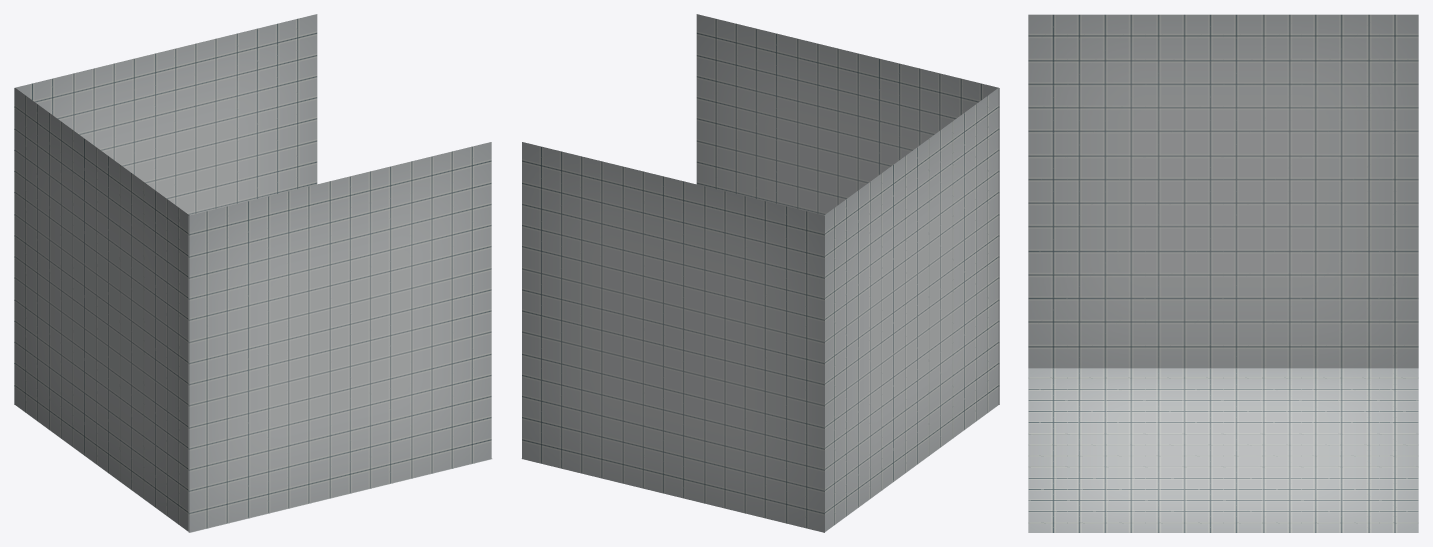
File: tile.fbx
The picture shows the model from 3 angles, left to right: view 1: azimuth 30°, elevation 25°; view 2: azimuth 150°, elevation 25°; view 3: azimuth 270°, elevation 25°; orthographic projection. The views are drawn at different scales.
Parts seen in each view (by area): view 1: pasted__pasted__polySurface1, pasted__polySurface1, pasted__pasted__pasted__polySurface1; view 2: pasted__pasted__pasted__polySurface1, pasted__polySurface1, pasted__pasted__polySurface1; view 3: pasted__polySurface1, polySurface1.
Boxes of the visible parts, left/top/right/bottom form: pasted__pasted__polySurface1: left=188, top=142, right=491, bottom=532; pasted__polySurface1: left=15, top=88, right=189, bottom=532; pasted__pasted__pasted__polySurface1: left=14, top=14, right=317, bottom=404; pasted__pasted__pasted__polySurface1: left=522, top=142, right=824, bottom=532; pasted__polySurface1: left=824, top=88, right=998, bottom=531; pasted__pasted__polySurface1: left=696, top=14, right=999, bottom=404; pasted__polySurface1: left=1028, top=14, right=1418, bottom=368; polySurface1: left=1028, top=368, right=1418, bottom=532.
Size of the model in its own units: 100 by 100 by 100.
